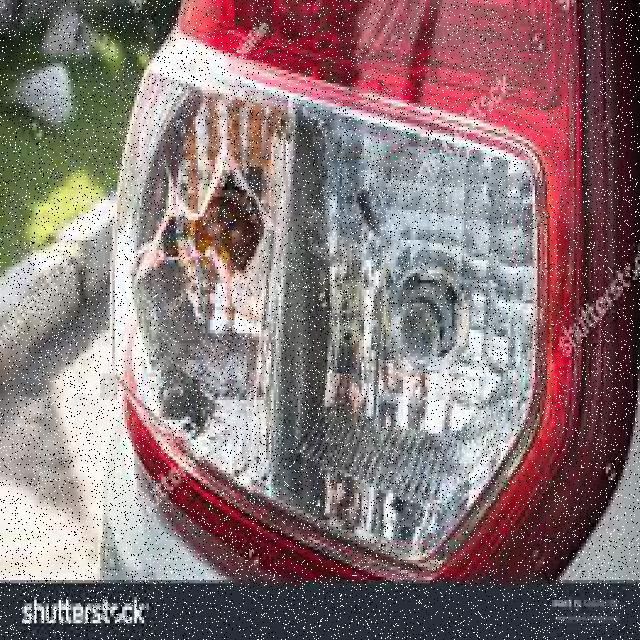Taillight-Damage: (98, 33, 550, 566)
